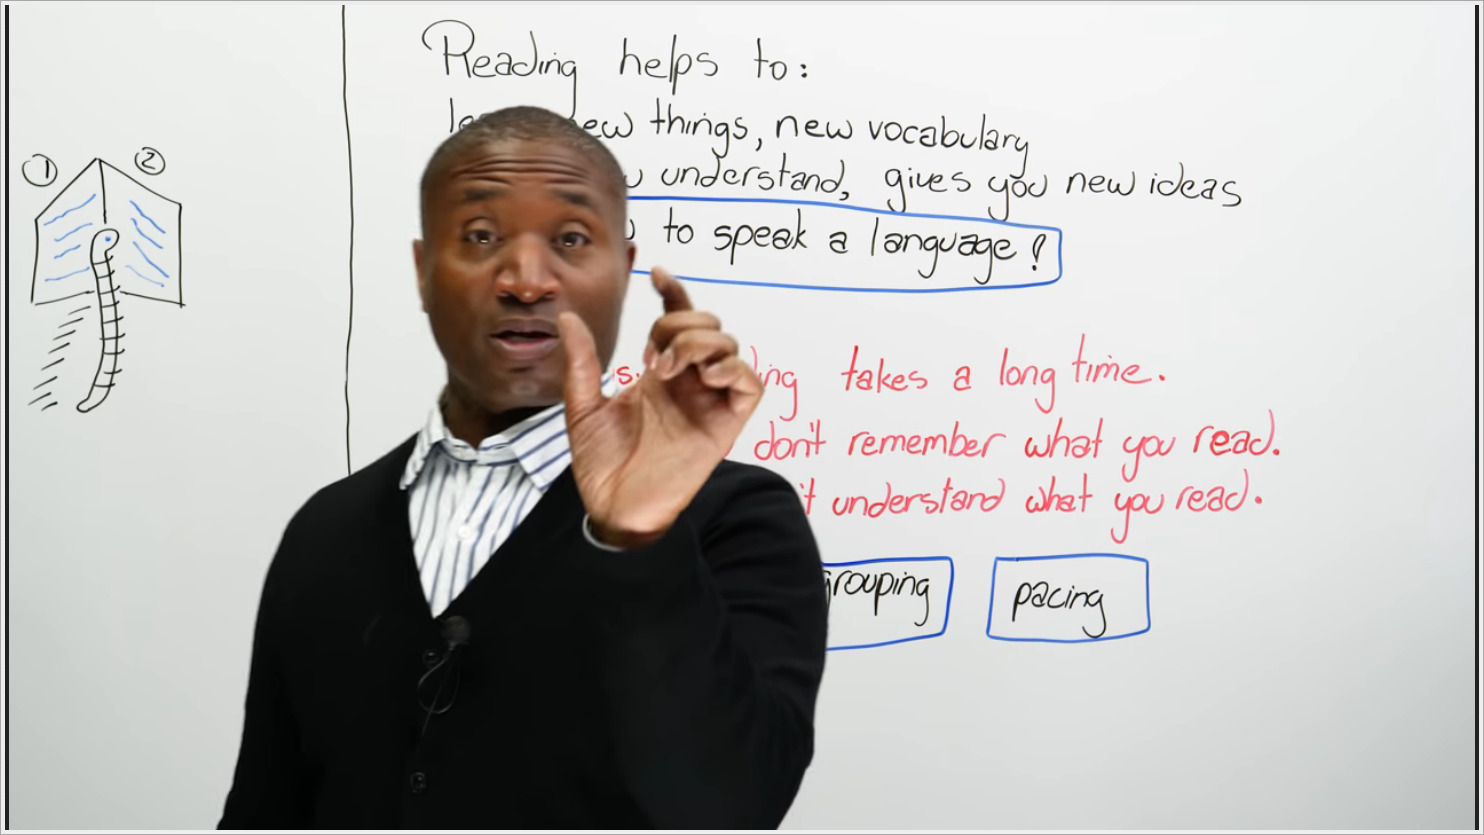hand: (551, 256, 771, 540)
